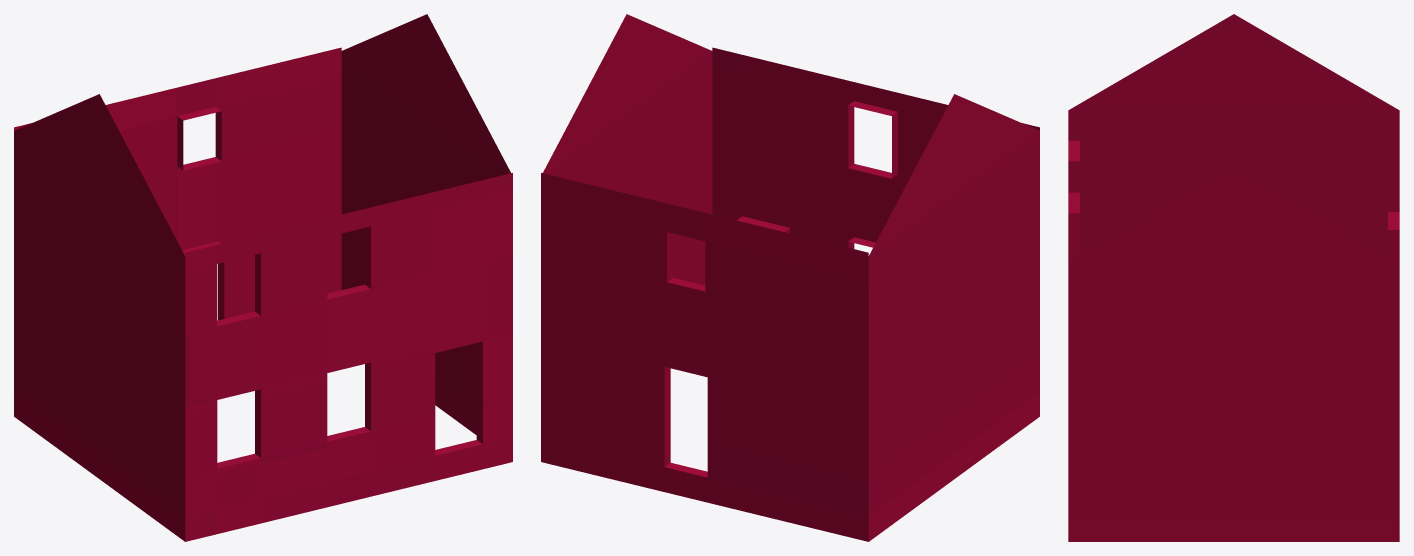
Rendered from SM_Bld_011_Masonry.glb.
The picture shows the model from 3 angles, left to right: view 1: azimuth 30°, elevation 25°; view 2: azimuth 150°, elevation 25°; view 3: azimuth 270°, elevation 25°; orthographic projection. The views are drawn at different scales.
Parts seen in each view (by area): view 1: SM_Bld_011_Masonry; view 2: SM_Bld_011_Masonry; view 3: SM_Bld_011_Masonry.
Part boxes in pixels (left/top/right/bottom): SM_Bld_011_Masonry: left=14, top=14, right=512, bottom=541; SM_Bld_011_Masonry: left=541, top=14, right=1039, bottom=541; SM_Bld_011_Masonry: left=1068, top=14, right=1399, bottom=541.
Bounding box in the file's own units: 6.84 × 7.69 × 6.19.
